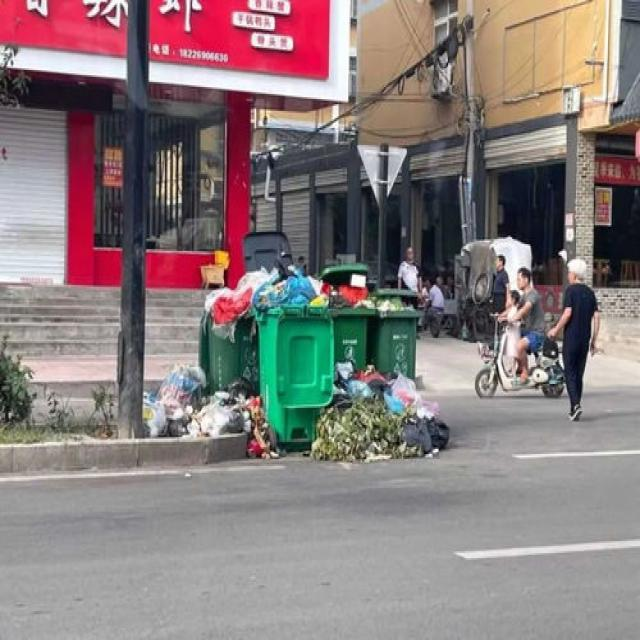garbage: (307, 360, 449, 459), (144, 362, 286, 456)
overflow: (253, 263, 333, 447), (198, 268, 258, 392), (323, 263, 371, 372), (370, 285, 417, 375)
